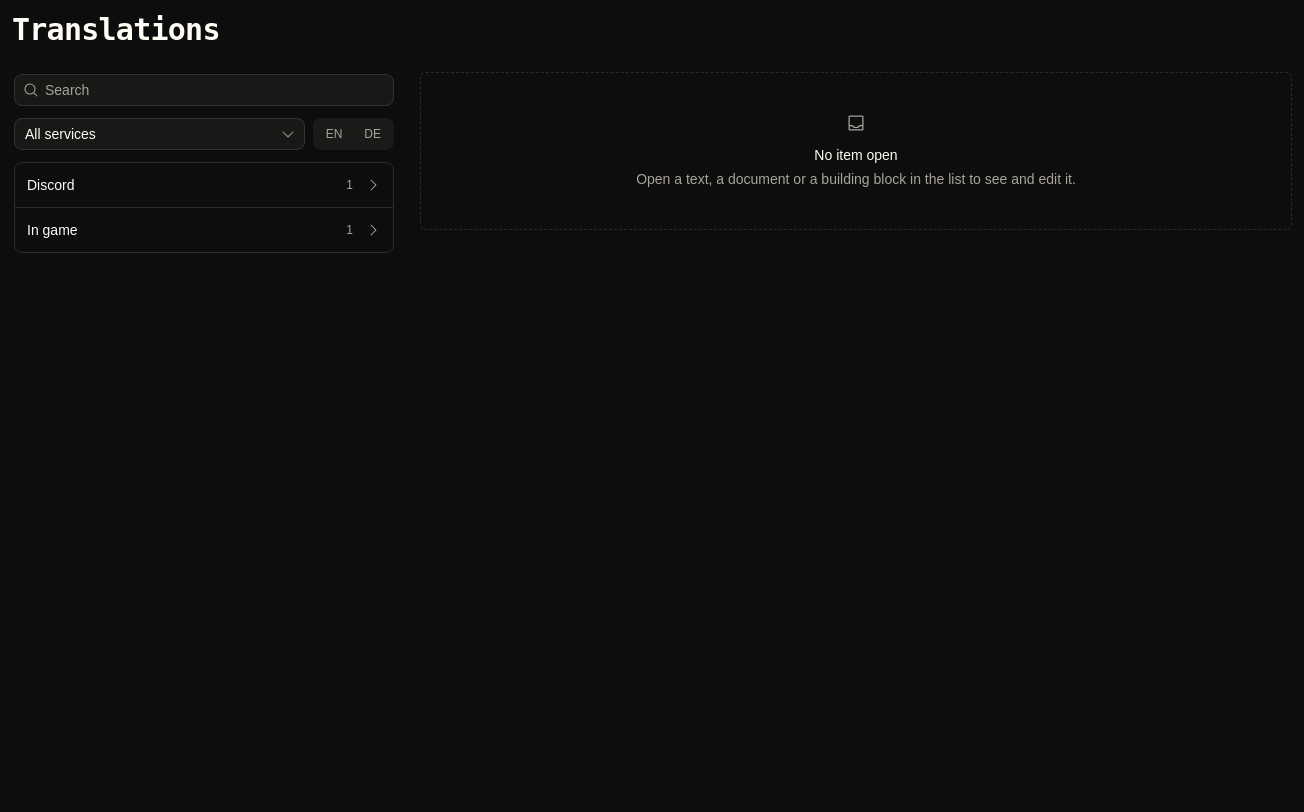
Test case: a document in English only › is marked so, never as not translated, and opens in English whatever the page's language
The image size is (1304, 812).
Press the mouse on the tab "DE" at point(373, 134), box top-left (353, 120), bottom-right (392, 148)
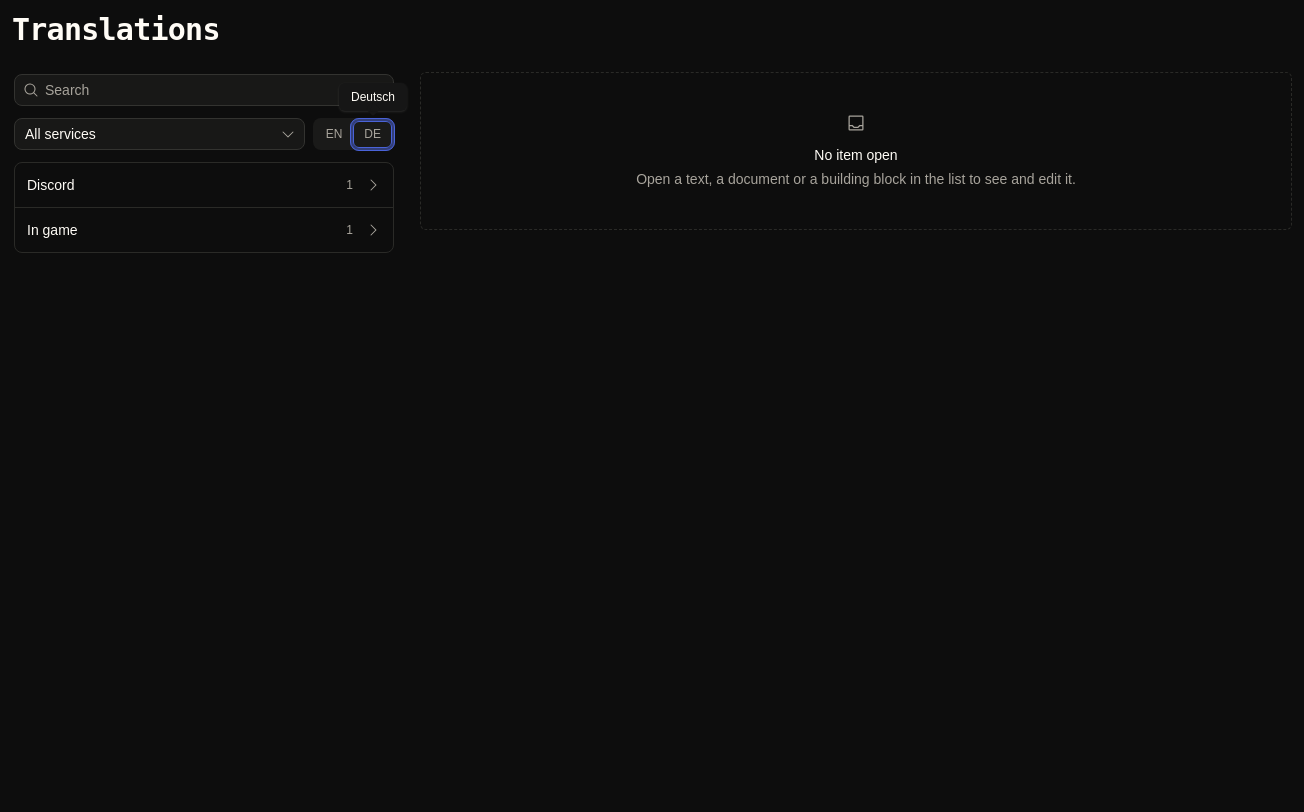
Click the button "Discord 1" at point(51, 185), box top-left (15, 163), bottom-right (393, 207)
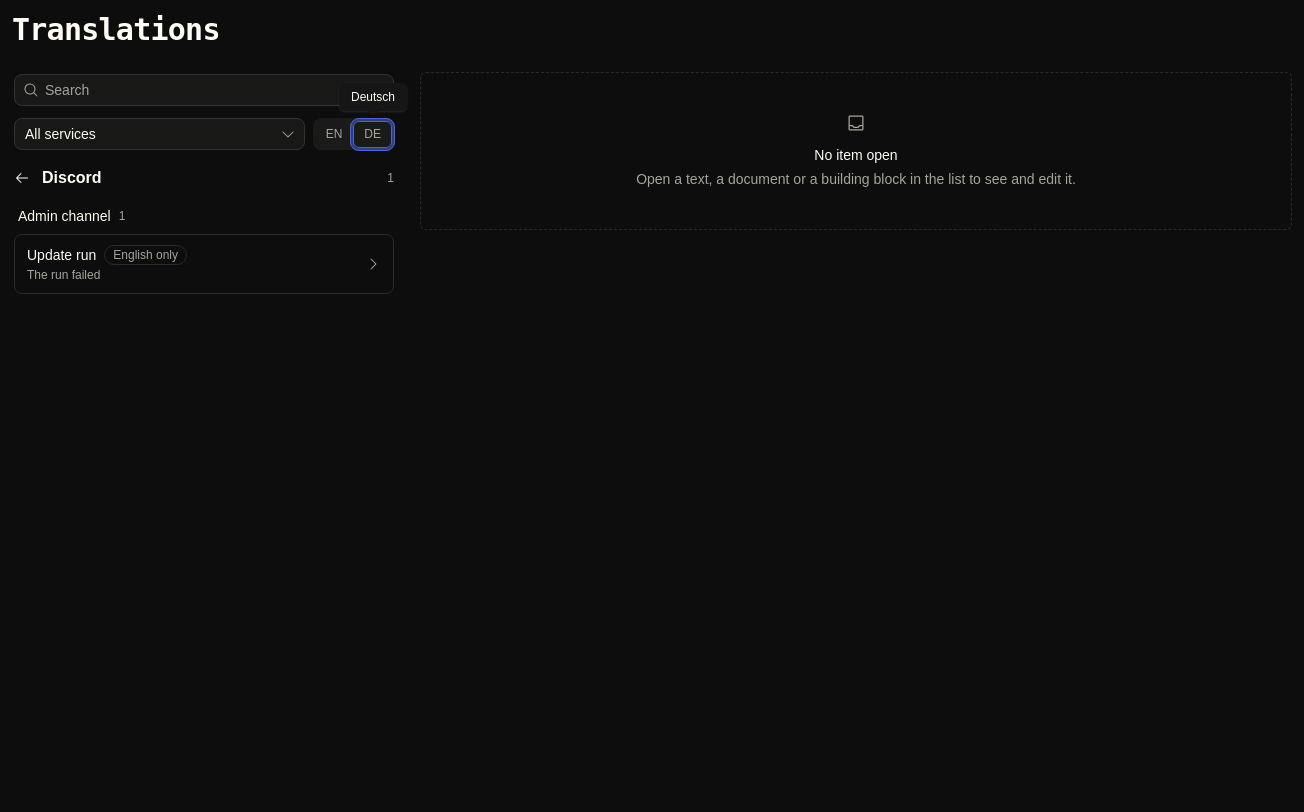
Expected: the text "English only" is shown, top-left (104, 245), bottom-right (187, 265)
Click the button "Update run English only The run failed" at point(62, 255), box top-left (15, 235), bottom-right (393, 293)
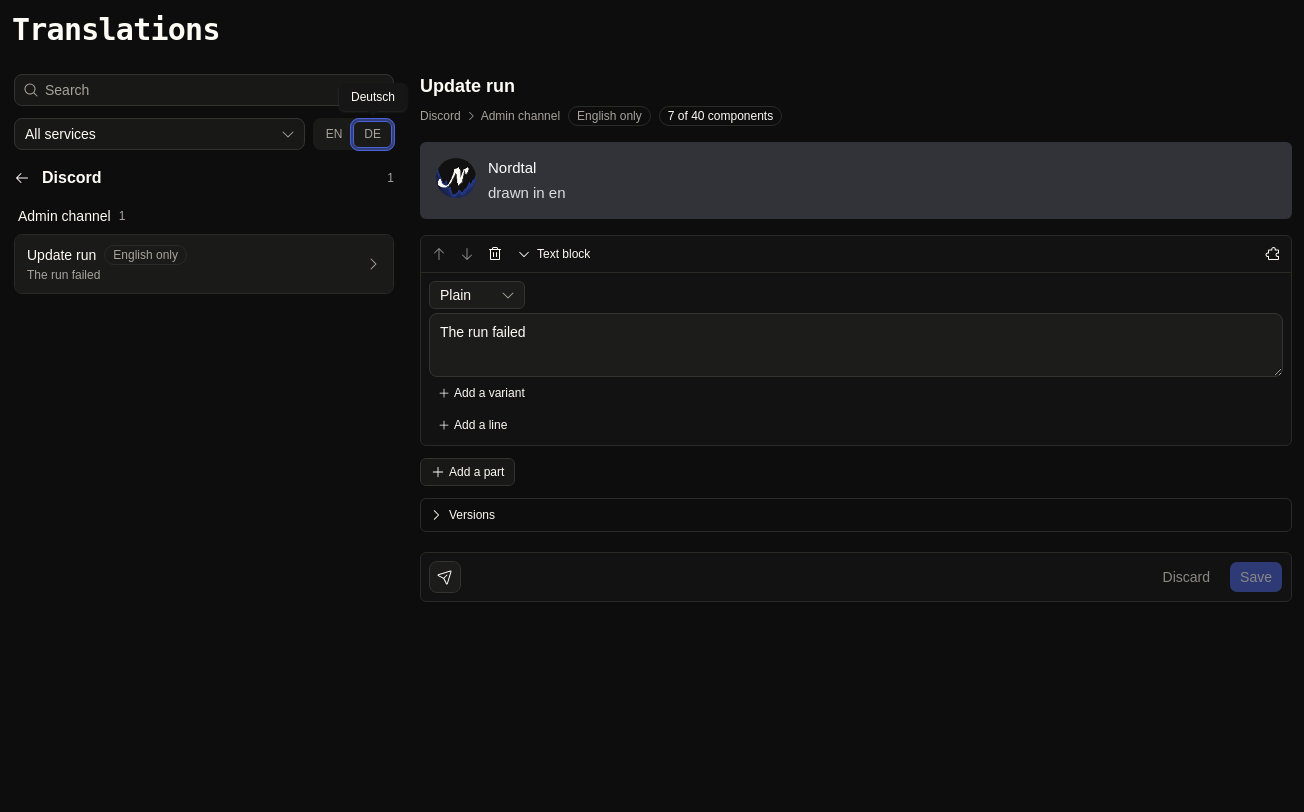
Expected: the text "English only" next to "7 of 40 components" is shown, top-left (577, 109), bottom-right (642, 123)
Expected: the text "drawn in en" is shown, top-left (488, 184), bottom-right (566, 201)
